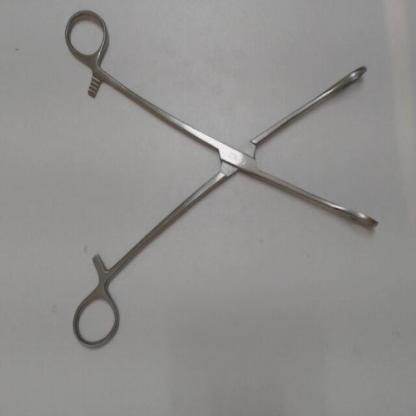Sponge Forceps: (58, 2, 388, 357)
